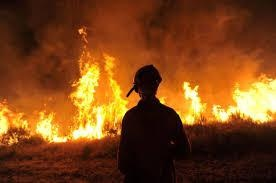fire: (178, 70, 275, 124)
